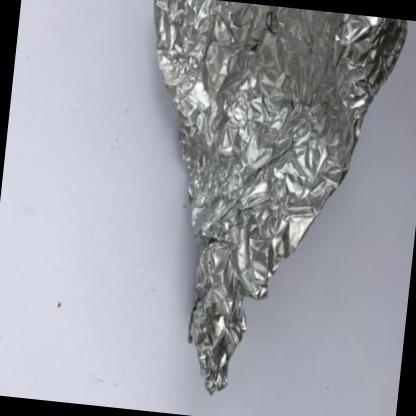Metal: (155, 0, 407, 394)
